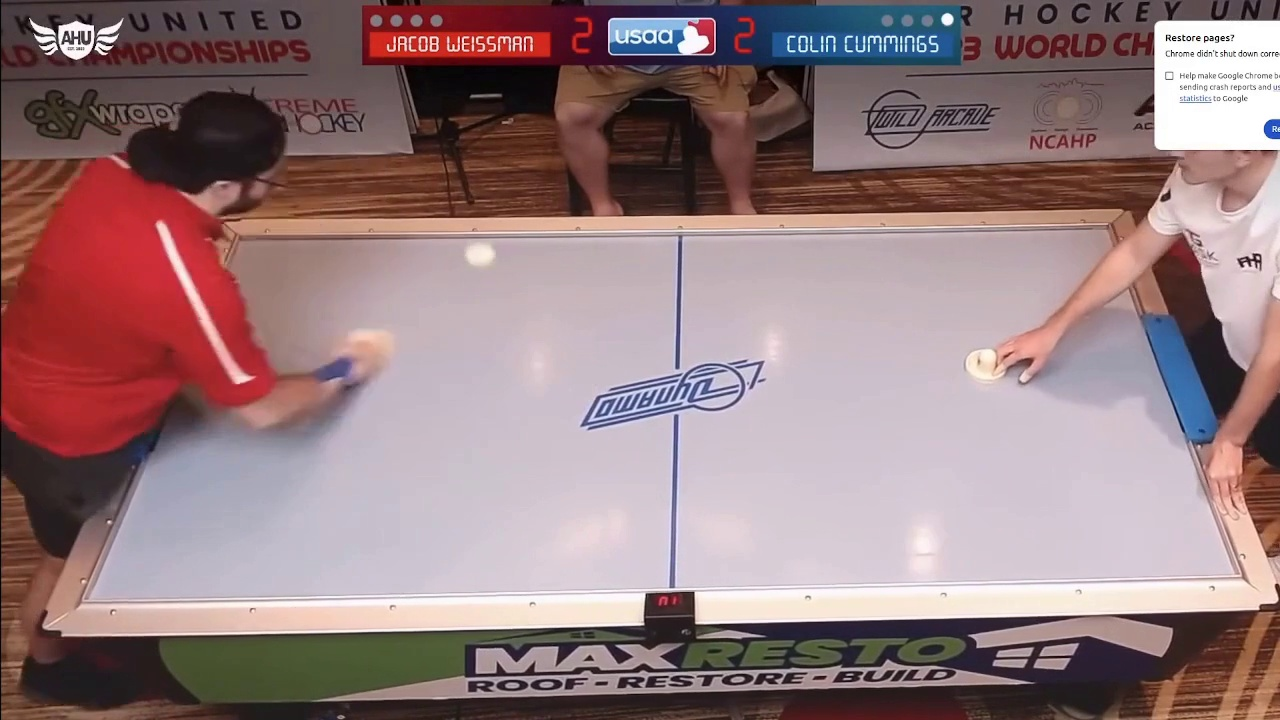player: (341, 325, 396, 363), (961, 347, 1013, 381)
puck: (462, 240, 496, 269)
table: (85, 213, 1258, 621)
